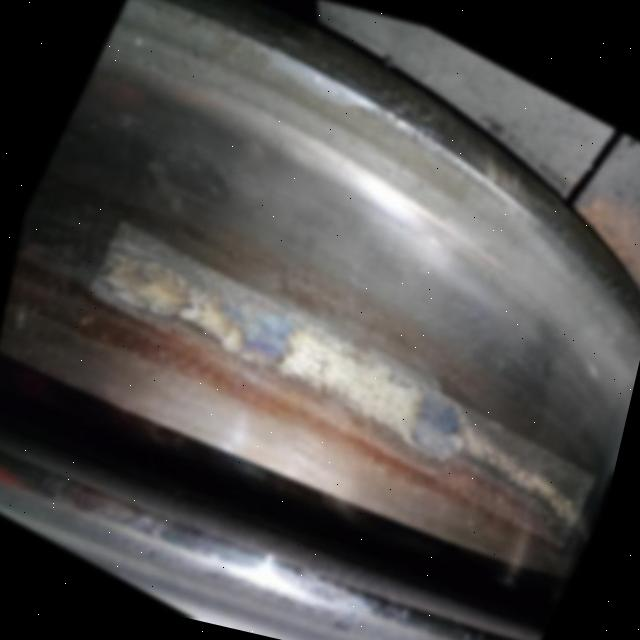Rollerpile: (53, 216, 629, 550)
